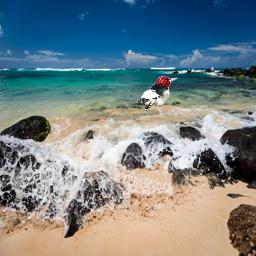Woodpecker: (137, 76, 179, 111)
